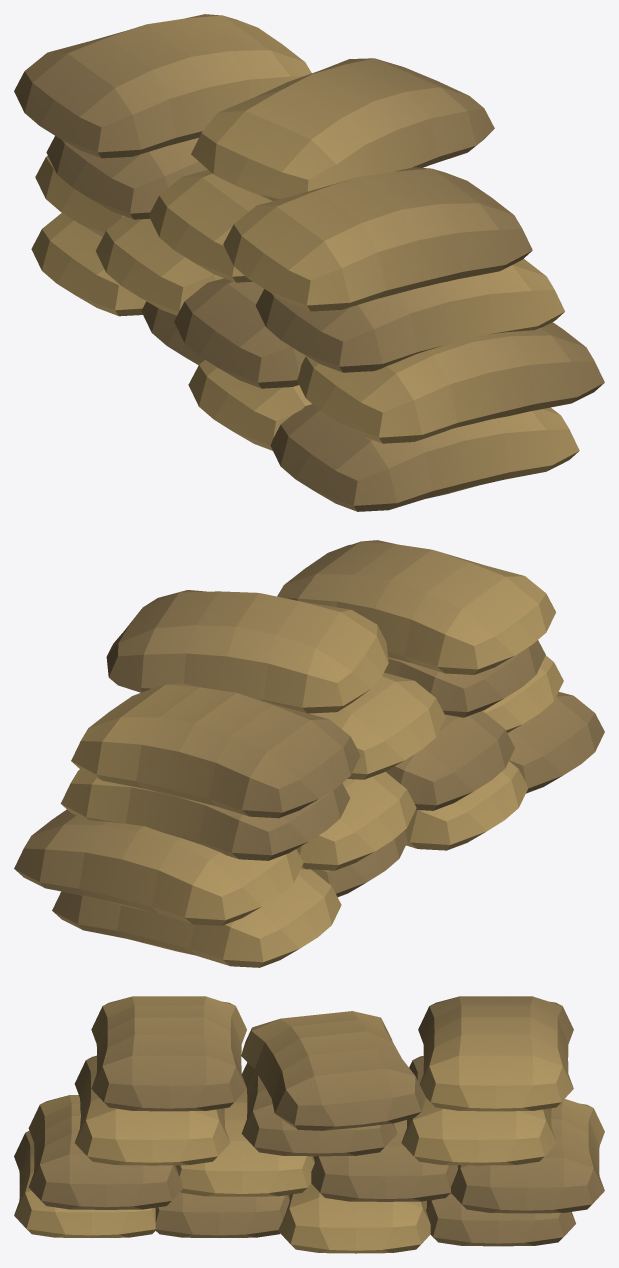
Rendered from Sack_1C.fbx.
3 views of the same model, one above another, from view 1: azimuth 30°, elevation 25°; view 2: azimuth 150°, elevation 25°; view 3: azimuth 270°, elevation 25° (orthographic). The views are drawn at different scales.
Visible parts, largest first — view 1: polySurface9667; view 2: polySurface9667; view 3: polySurface9667.
Part boxes in pixels (x1,y1,x2,y2): polySurface9667: [14, 14, 604, 511]; polySurface9667: [14, 540, 604, 967]; polySurface9667: [14, 996, 604, 1253].
Bounding box in the file's own units: 214 × 160 × 422.
